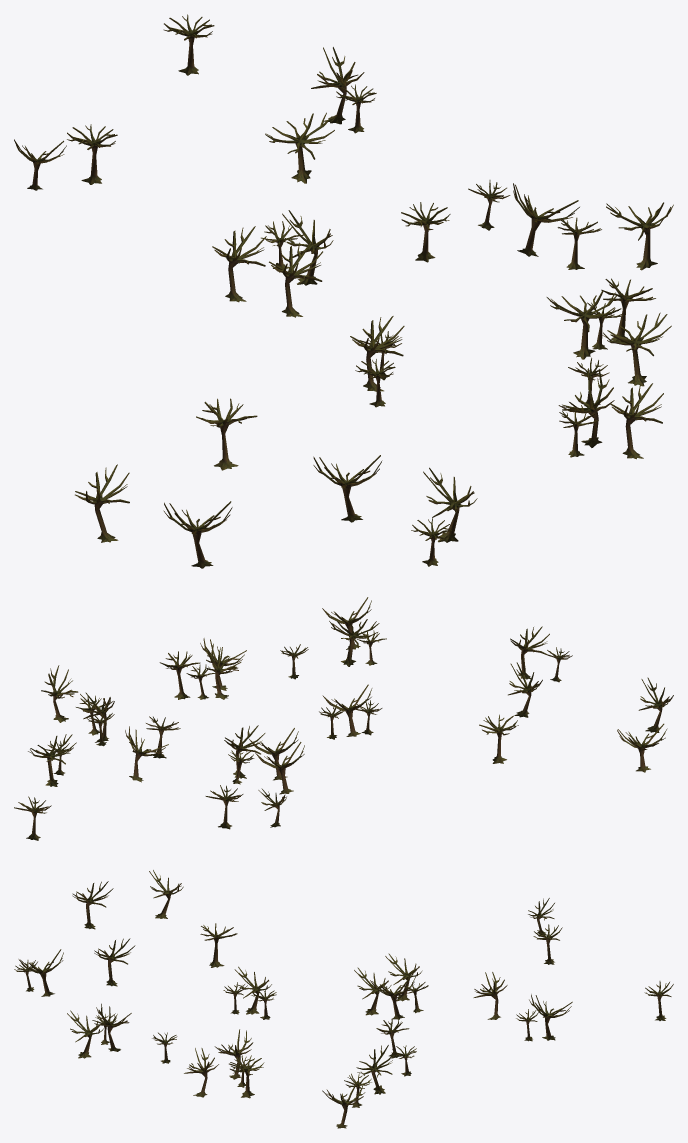
The model's file is Tree_Block_4.FBX.
3 renders of one model, top to bottom at view 1: azimuth 30°, elevation 25°; view 2: azimuth 150°, elevation 25°; view 3: azimuth 270°, elevation 25°, orthographic. The views are drawn at different scales.
Visible parts, largest first — view 1: Tree:Tree178; view 2: Tree:Tree178; view 3: Tree:Tree178.
Boxes of the visible parts, box(x1,y1,x2,y2) form: Tree:Tree178: box(14, 14, 673, 568); Tree:Tree178: box(14, 597, 673, 840); Tree:Tree178: box(14, 870, 673, 1128).
Size of the model in its own units: 298 by 53.65 by 360.
